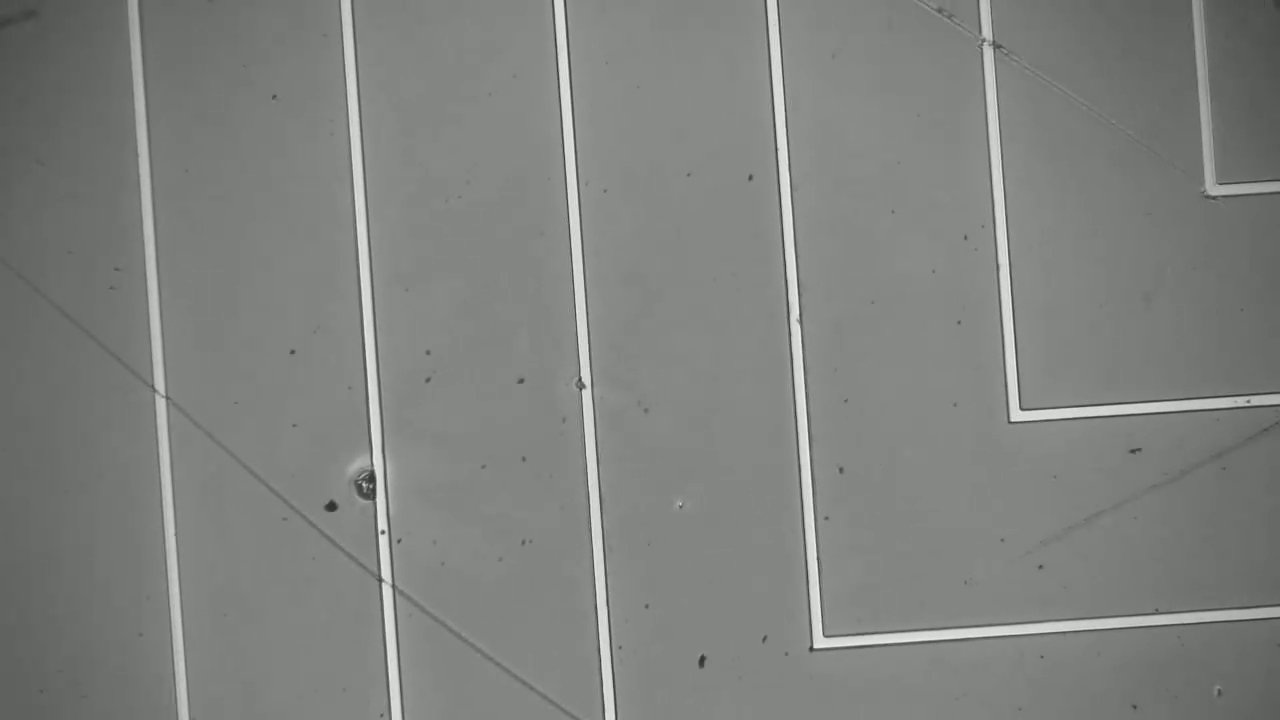scratch: (8, 260, 581, 716), (1033, 433, 1268, 562), (923, 3, 1124, 123)
stains_enbedded: (345, 448, 396, 514), (569, 372, 604, 401)
